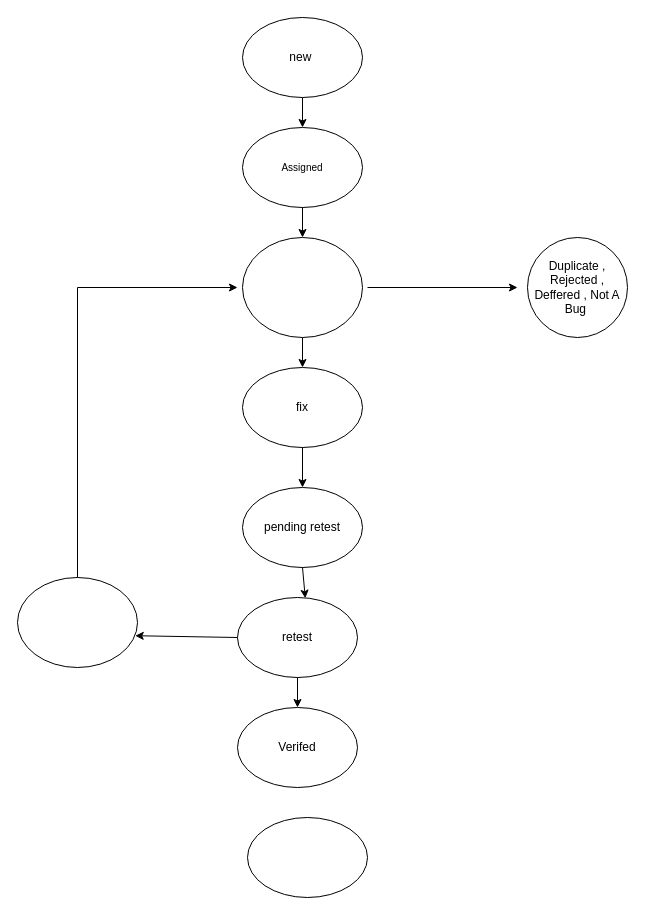
Some shapes in this 645 by 915 pixel diagram are drawn without their labels. The shapes that lost their labels are listed below. From the top down, each one's centre as x and y in pixels, then its label:
At (x=302, y=287): "open".
At (x=77, y=622): "Re open".
At (x=307, y=857): "Closed".
